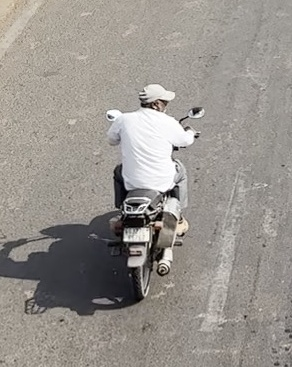BikeWithRider: (100, 82, 208, 305)
NoHelmet: (136, 83, 179, 114)
